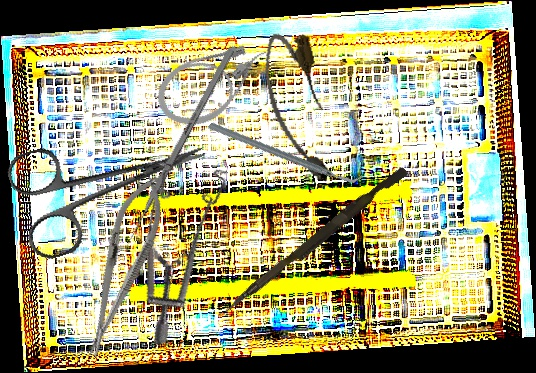Cannula: (147, 31, 283, 137), (256, 27, 340, 189)
Chopper: (206, 73, 365, 232)
Iris Scissors: (3, 103, 221, 264)
Needle Holder: (69, 167, 176, 365)
Pusher: (222, 161, 409, 321), (121, 47, 235, 251)
Speculum: (105, 144, 270, 346)
